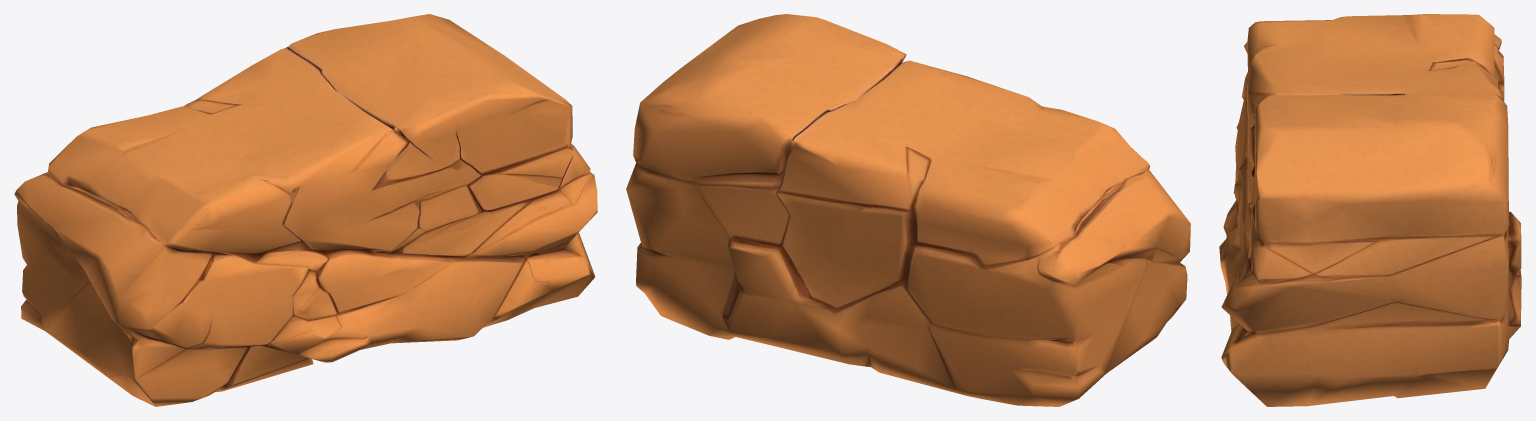
Rendered from rock-slab.glb.
3 renders of one model, left to right at view 1: azimuth 30°, elevation 25°; view 2: azimuth 150°, elevation 25°; view 3: azimuth 270°, elevation 25°, orthographic. The views are drawn at different scales.
Bounding box in the file's own units: 1.89 × 0.9185 × 1.01.
Materials: 1 (1 with a texture image).
